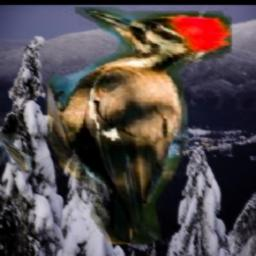Cuckoo: (0, 134, 33, 175)
Woodpecker: (40, 7, 232, 244)
